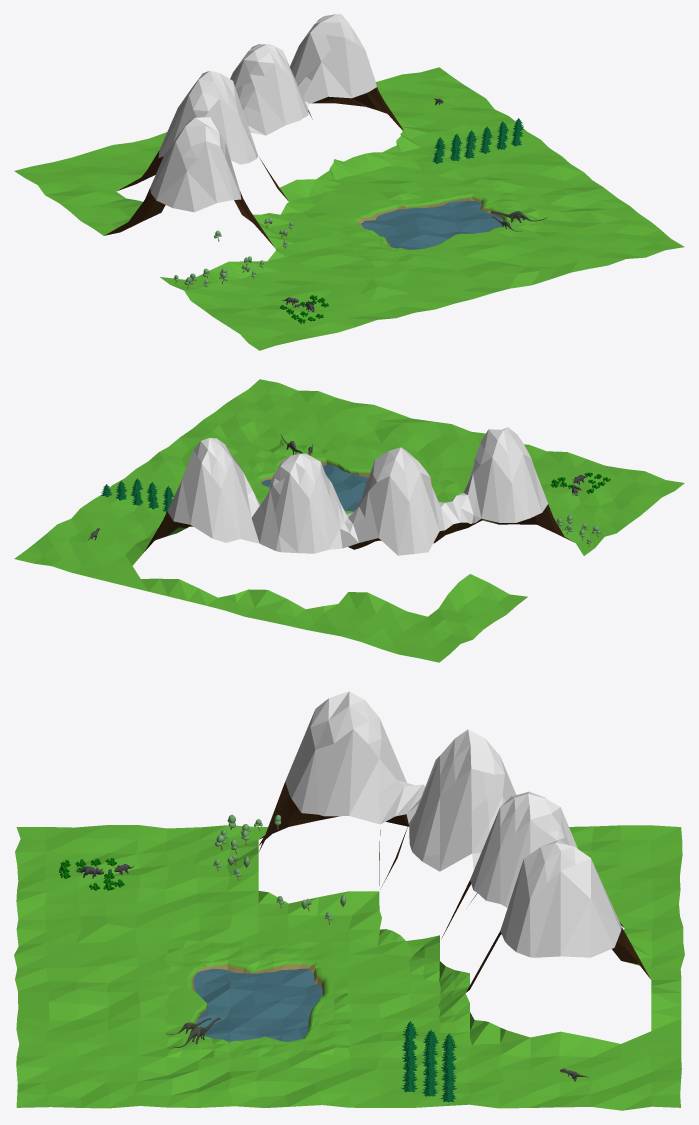
Rendered from past_center_1000.fbx.
3 views of the same model, one above another, from view 1: azimuth 30°, elevation 25°; view 2: azimuth 150°, elevation 25°; view 3: azimuth 270°, elevation 25° (orthographic). The views are drawn at different scales.
Parts seen in each view (by area): view 1: Plane.002; view 2: Plane.002; view 3: Plane.002.
Part boxes in pixels (x1=…): Plane.002: x1=14, y1=14, x2=684, y2=350; Plane.002: x1=14, y1=379, x2=684, y2=662; Plane.002: x1=14, y1=691, x2=684, y2=1110.
Bounding box in the file's own units: 23241 × 7635 × 23298.
